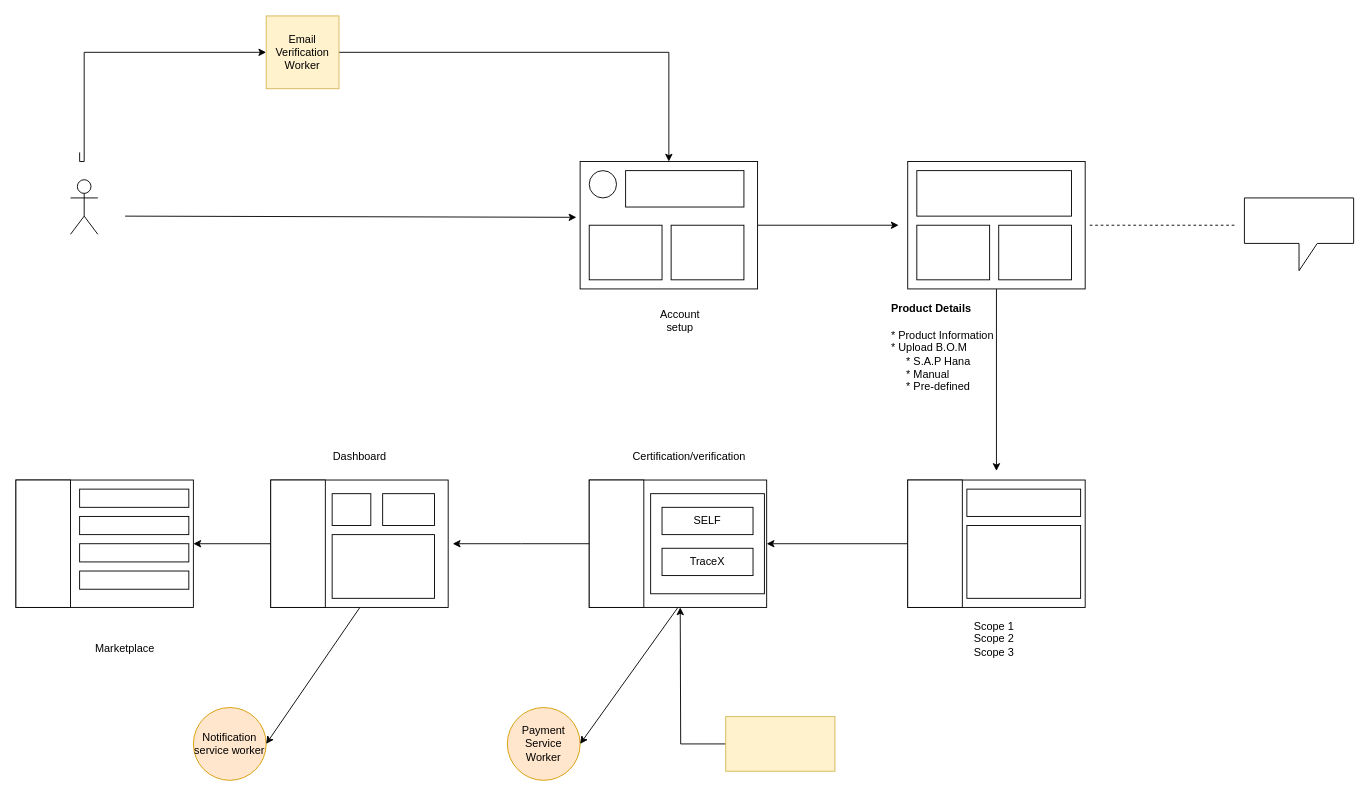
Image size: 1370x796. Some labels were removed from this diagram. The shapes that lost their labels are listed below. From the top down, each one's centre as x and y in pixels, then its label:
At pixel 84 206: "Supplier".
At pixel 1299 234: "Email to Suppliers".
At pixel 780 743: "Verification service worker".
